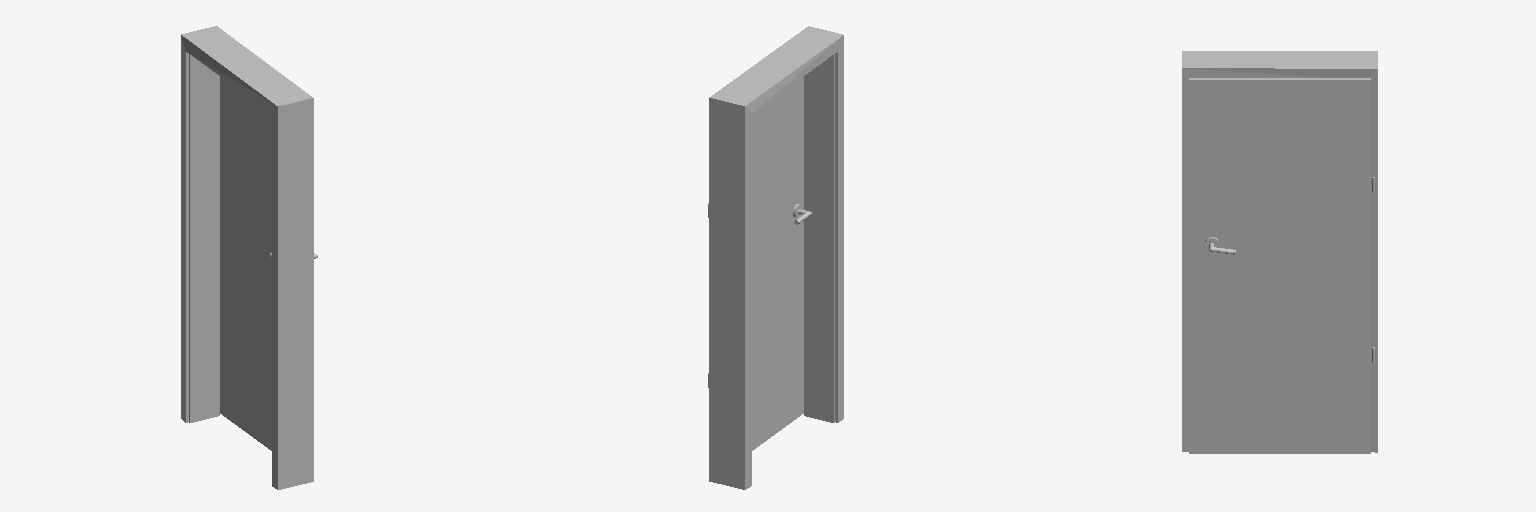
File: door98.obj
The picture shows the model from 3 angles: view 1: azimuth 30°, elevation 25°; view 2: azimuth 150°, elevation 25°; view 3: azimuth 270°, elevation 25°; orthographic projection.
Parts seen in each view (by area): view 1: Cylinder.005, Cylinder.001; view 2: Cylinder.005, Cylinder.001; view 3: Cylinder.001, Cylinder.005.
Boxes of the visible parts, x1,y1,x2,y2 form: Cylinder.005: [181, 26, 313, 489]; Cylinder.001: [220, 77, 271, 450]; Cylinder.005: [708, 26, 843, 489]; Cylinder.001: [708, 77, 803, 450]; Cylinder.001: [1189, 78, 1374, 453]; Cylinder.005: [1182, 51, 1377, 452].
Bounding box in the file's own units: 0.3039 × 2.05 × 0.95.